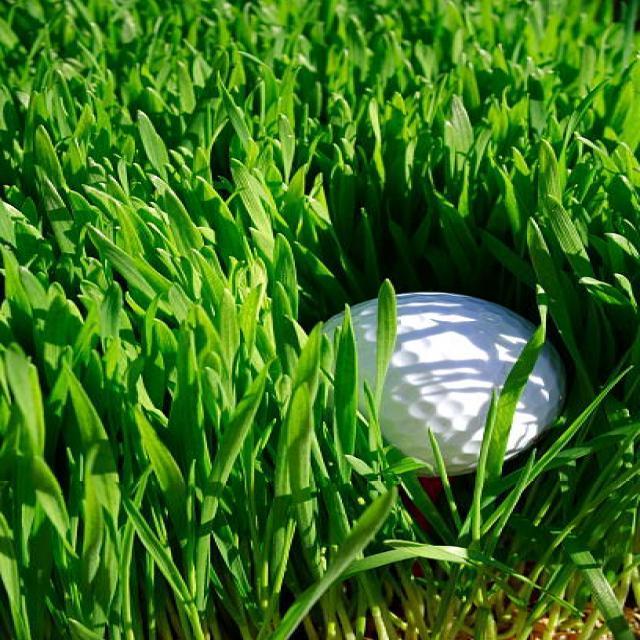golfball: (302, 288, 567, 478)
